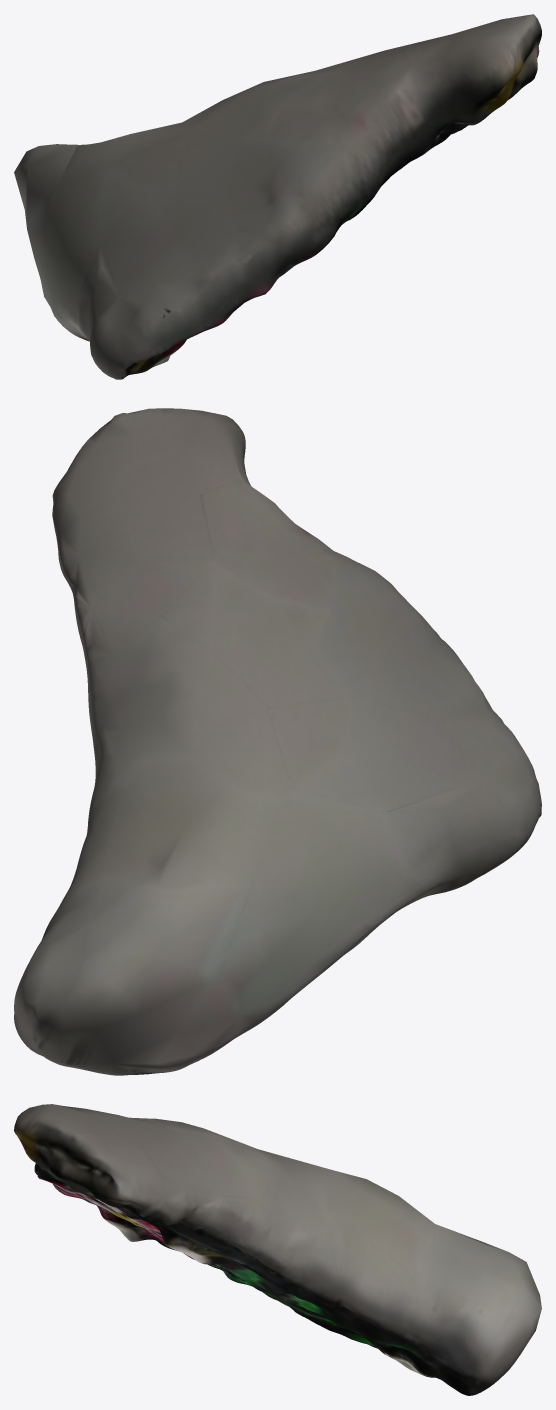
3 views of the same model, one above another, from view 1: azimuth 30°, elevation 25°; view 2: azimuth 150°, elevation 25°; view 3: azimuth 270°, elevation 25° (orthographic). The views are drawn at different scales.
Size of the model in its own units: 0.413 by 0.3587 by 0.5016.
1 material, 1 textured.
